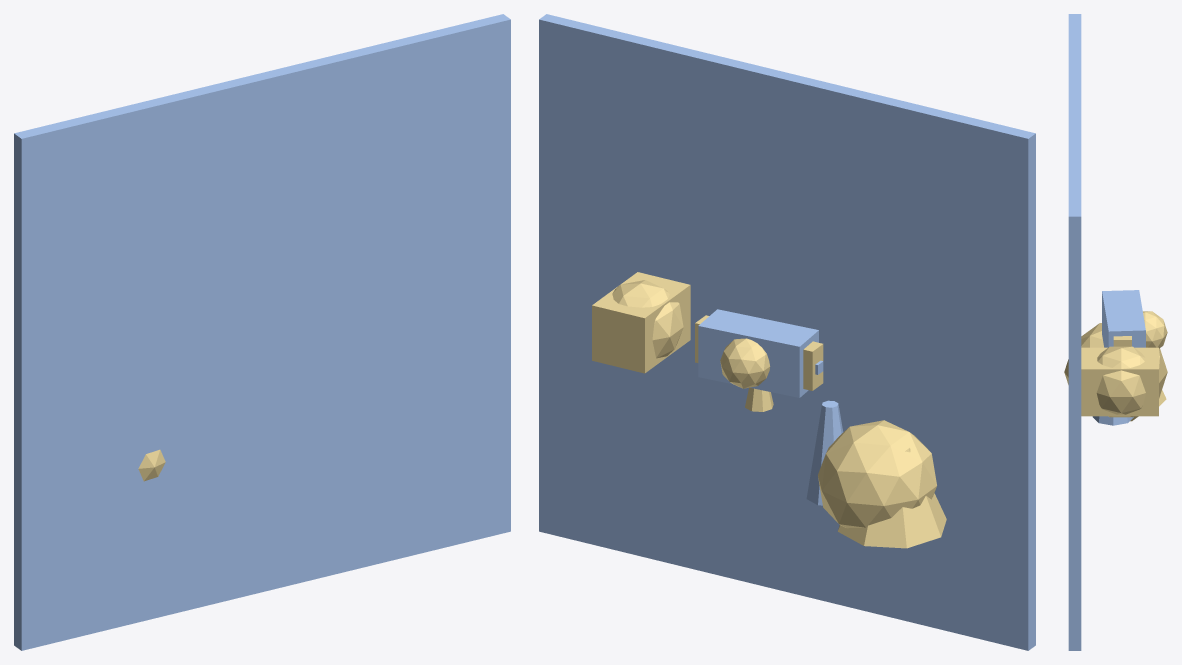
Rendered from asteroid-drift-kit.glb.
The picture shows the model from 3 angles, left to right: view 1: azimuth 30°, elevation 25°; view 2: azimuth 150°, elevation 25°; view 3: azimuth 270°, elevation 25°; orthographic projection. The views are drawn at different scales.
Visible parts, largest first — view 1: ENVIRONMENT_GROUND; view 2: ENVIRONMENT_GROUND, PROFILE_ENVIRONMENT_DETAIL, PLAYER_BODY, PROFILE_OBSTACLE_DETAIL, ENVIRONMENT_LANDMARK, OBSTACLE, PLAYER_CORE, PROFILE_ENVIRONMENT_SPIRE, PROFILE_PLAYER_DETAIL; view 3: ENVIRONMENT_GROUND, PROFILE_OBSTACLE_DETAIL, OBSTACLE, PLAYER_BODY, PROFILE_ENVIRONMENT_DETAIL, PLAYER_CORE, PROFILE_ENVIRONMENT_SPIRE, PROFILE_PLAYER_DETAIL.
Part boxes in pixels (x1,y1,x2,y2): ENVIRONMENT_GROUND: (14, 14, 510, 650); ENVIRONMENT_GROUND: (539, 14, 1035, 650); PROFILE_ENVIRONMENT_DETAIL: (818, 420, 936, 528); PLAYER_BODY: (698, 309, 818, 397); PROFILE_OBSTACLE_DETAIL: (592, 272, 690, 373); ENVIRONMENT_LANDMARK: (837, 448, 946, 548); OBSTACLE: (612, 280, 683, 358); PLAYER_CORE: (720, 338, 770, 388); PROFILE_ENVIRONMENT_SPIRE: (806, 400, 843, 505); PROFILE_PLAYER_DETAIL: (695, 315, 823, 390); ENVIRONMENT_GROUND: (1068, 14, 1081, 650); PROFILE_OBSTACLE_DETAIL: (1081, 347, 1158, 416); OBSTACLE: (1096, 346, 1145, 417); PLAYER_BODY: (1102, 290, 1145, 347); PROFILE_ENVIRONMENT_DETAIL: (1064, 323, 1167, 421); PLAYER_CORE: (1143, 311, 1167, 348); PROFILE_ENVIRONMENT_SPIRE: (1092, 416, 1133, 425); PROFILE_PLAYER_DETAIL: (1113, 336, 1131, 346).
Size of what is drawn, in the model's own units: 9 by 9 by 1.94.
